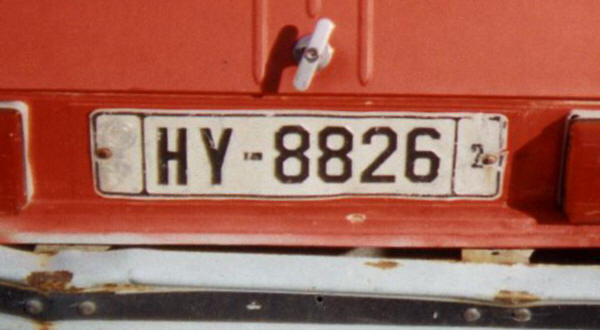license_plate: (92, 110, 503, 201)
